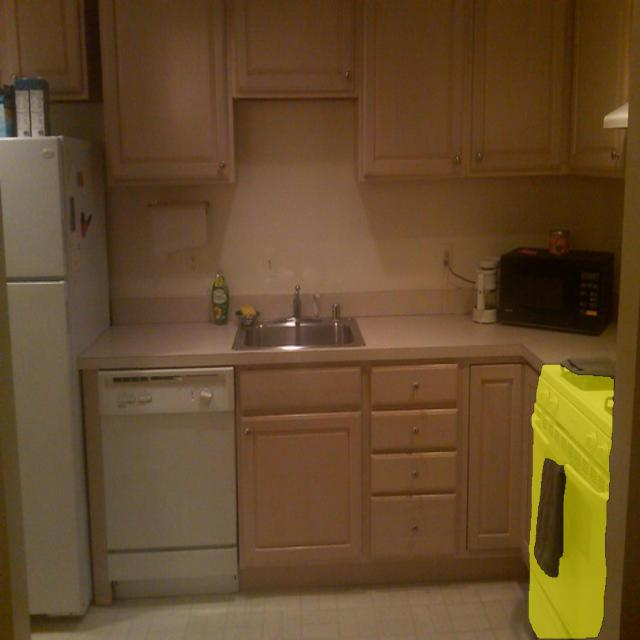dishwasher: (95, 369, 240, 595)
